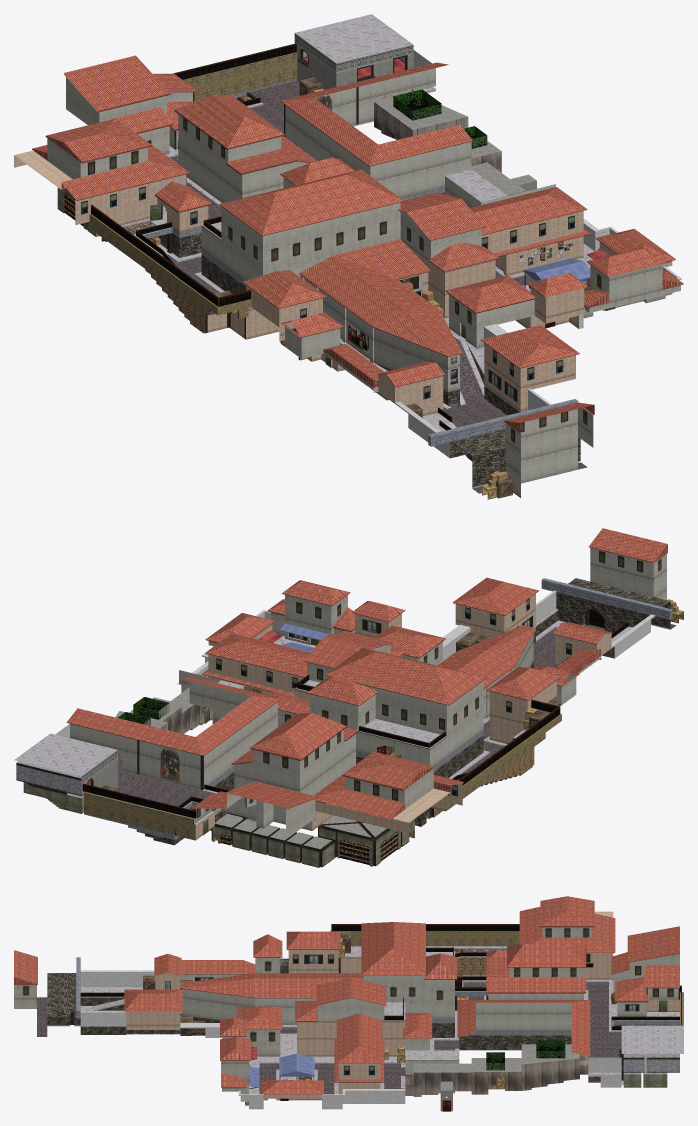
The model's file is cs16_italy.glb.
3 views of the same model, one above another, from view 1: azimuth 30°, elevation 25°; view 2: azimuth 150°, elevation 25°; view 3: azimuth 270°, elevation 25° (orthographic). The views are drawn at different scales.
Visible parts, largest first — view 1: Italy; view 2: Italy; view 3: Italy.
Boxes of the visible parts, x1=… form: Italy: x1=14, y1=14, x2=683, y2=499; Italy: x1=14, y1=528, x2=683, y2=867; Italy: x1=14, y1=896, x2=683, y2=1111.
Bounding box in the file's own units: 77.88 × 20.68 × 142.
Materials: 87 (87 with a texture image).
